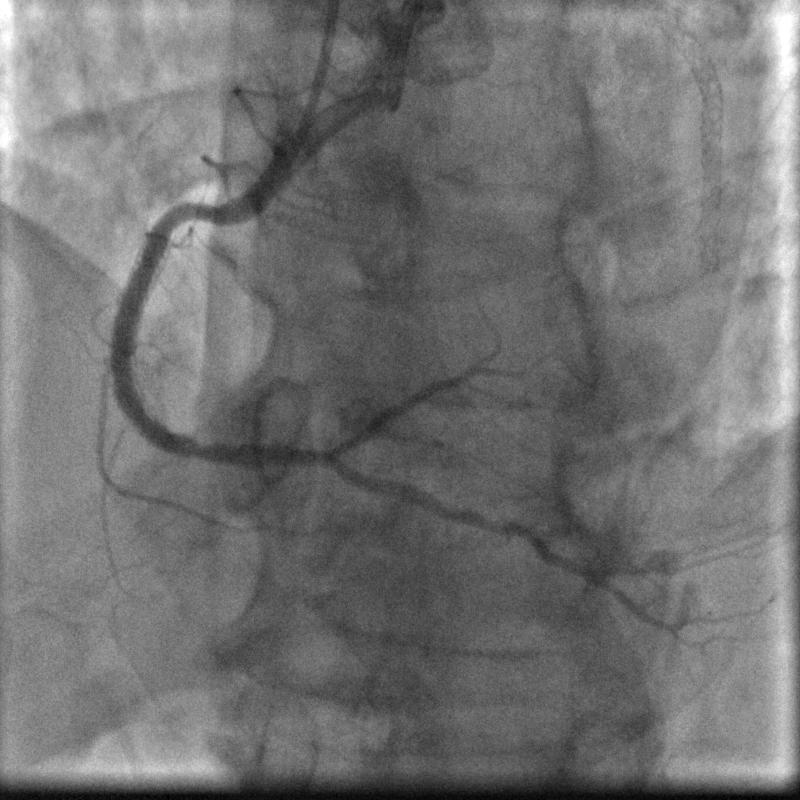Stenosis: (179, 194, 224, 237)
